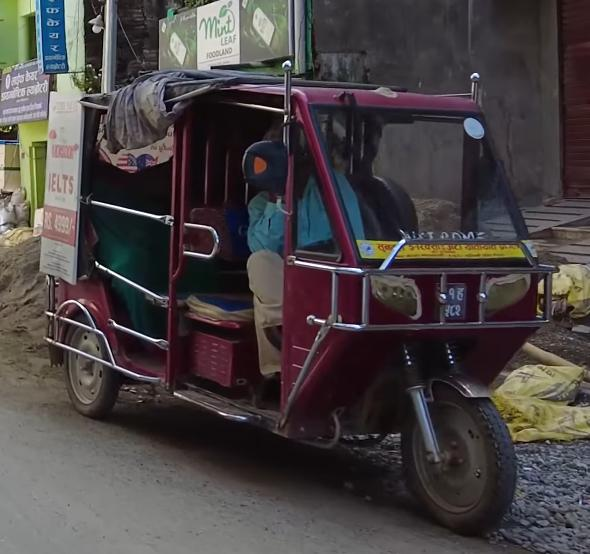e-rickshaw: (65, 57, 538, 528)
